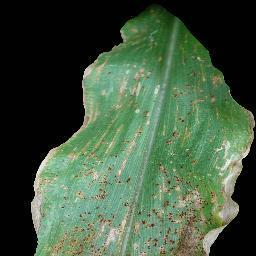Corn_Common_Rust: (25, 146, 249, 256), (62, 4, 181, 145), (180, 25, 255, 146)
